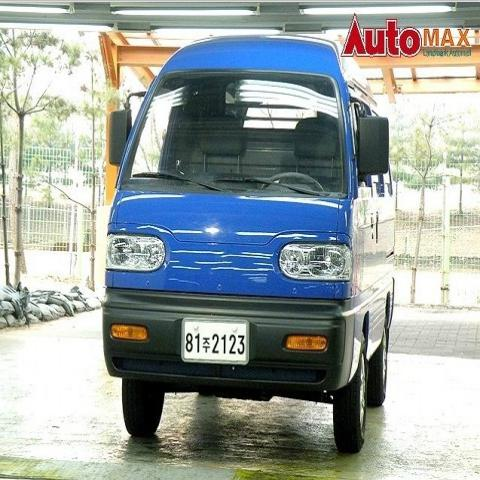LP: (175, 311, 258, 367)
